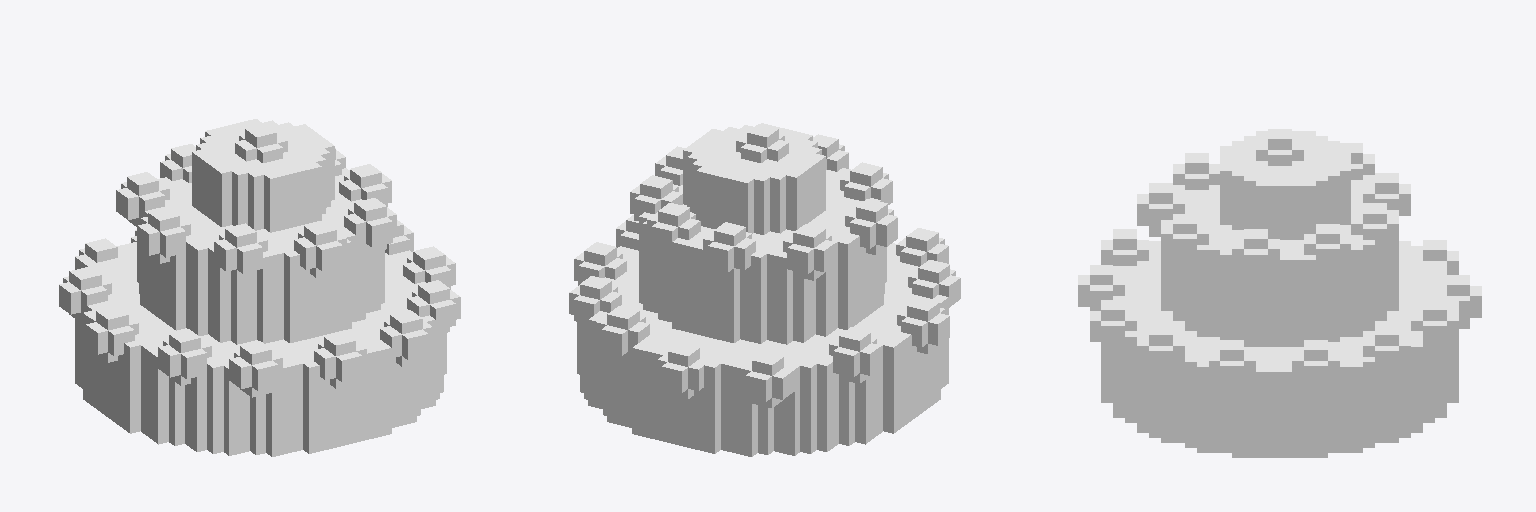
File: wedding_cake.obj
3 views of the same model, side by side, from view 1: azimuth 30°, elevation 25°; view 2: azimuth 150°, elevation 25°; view 3: azimuth 270°, elevation 25° (orthographic).
Visible parts, largest first — view 1: wedding_cake; view 2: wedding_cake; view 3: wedding_cake.
Part boxes in pixels (x1,y1,x2,y2): wedding_cake: (59, 119, 460, 456); wedding_cake: (569, 123, 960, 456); wedding_cake: (1078, 129, 1481, 457).
Size of the model in its own units: 33 by 23 by 34.